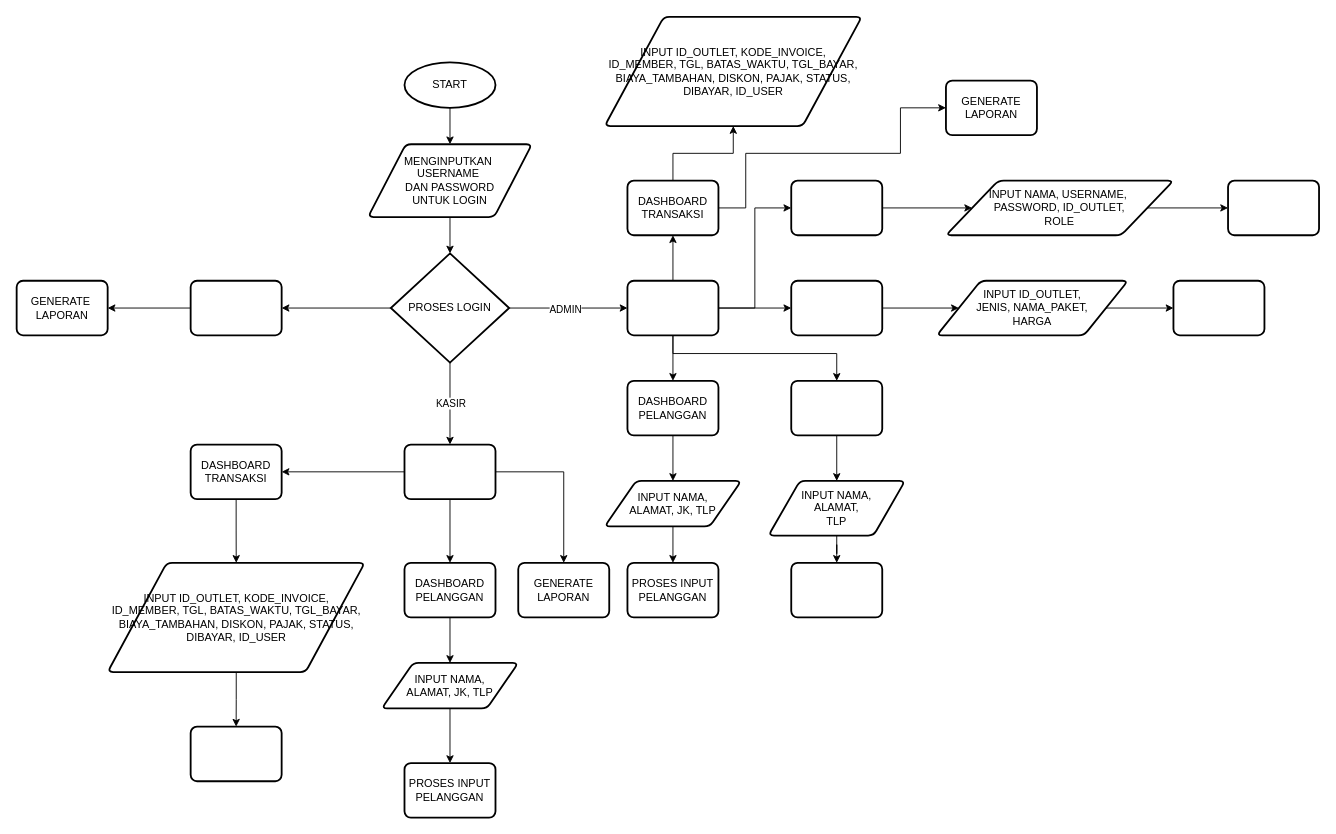
Some shapes in this 1336 by 834 pixel diagram are drawn without their labels. The centre of each missing label's shape, as x and y in pixels:
DAHSBOARD PAKET/PRODUK: the point at 836,307
DASHBOARD ADMIN: the point at 672,307
DASHBOARD KASIR: the point at 449,471
DASHBOARD OUTLET: the point at 836,407
DASHBOARD OWNER: the point at 235,307
DASHBOARD PENGGUNA: the point at 836,207
PROSES INPUT OUTLET: the point at 836,589
PROSES INPUT PENGGUNA: the point at 1273,207
PROSES INPUT TRANSAKSI: the point at 235,753
PROSES INPUT VARIAN PAKET: the point at 1218,307
